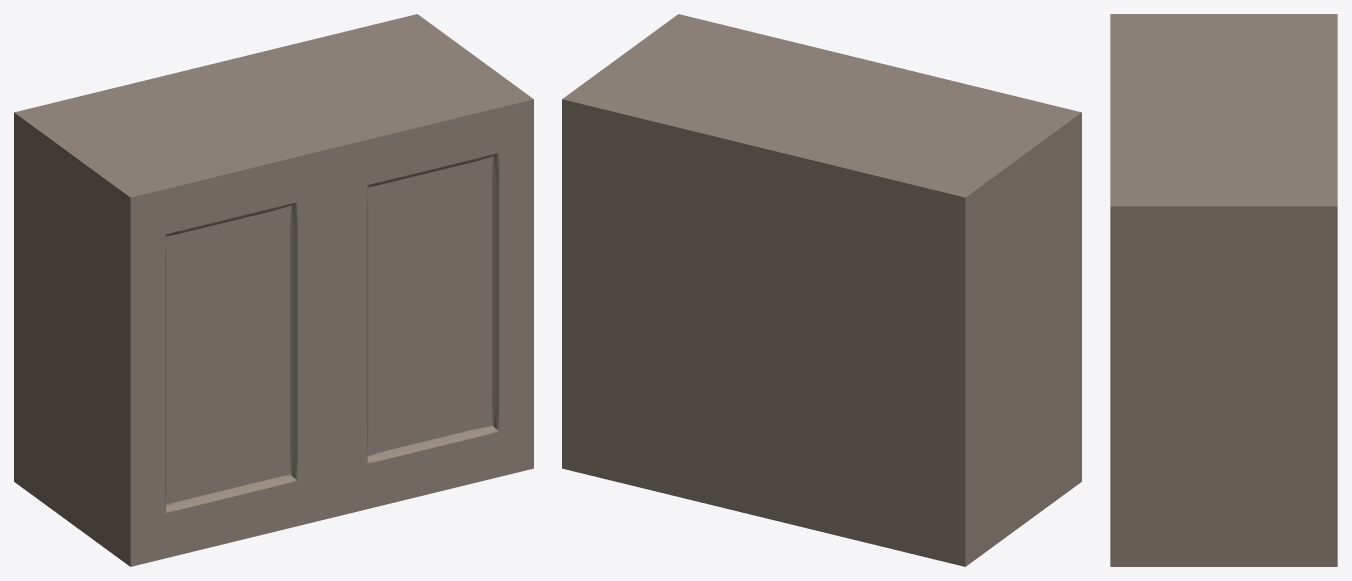
Rendered from Wall-Cabinet-21-High-12-Deep_std_001_W24in.glb.
3 views of the same model, side by side, from view 1: azimuth 30°, elevation 25°; view 2: azimuth 150°, elevation 25°; view 3: azimuth 270°, elevation 25° (orthographic). The views are drawn at different scales.
Visible parts, largest first — view 1: Wall-Cabinet-21-High-12-Deep.std.001_W24in; view 2: Wall-Cabinet-21-High-12-Deep.std.001_W24in; view 3: Wall-Cabinet-21-High-12-Deep.std.001_W24in.
Part boxes in pixels (left/top/right/bottom): Wall-Cabinet-21-High-12-Deep.std.001_W24in: left=14, top=14, right=533, bottom=566; Wall-Cabinet-21-High-12-Deep.std.001_W24in: left=562, top=14, right=1081, bottom=566; Wall-Cabinet-21-High-12-Deep.std.001_W24in: left=1110, top=14, right=1337, bottom=566.
Size of the model in its own units: 0.6096 by 0.5334 by 0.3048.
